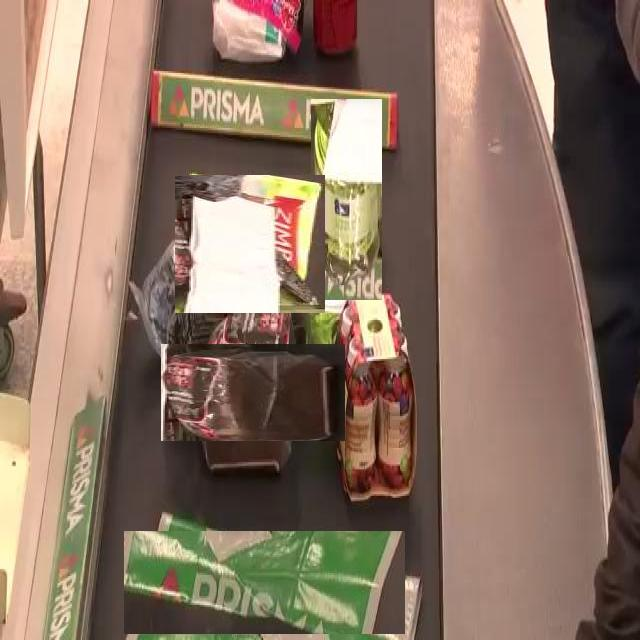beverage: (310, 98, 382, 300)
food-box: (183, 321, 324, 463), (338, 303, 419, 508)
utility-box: (124, 530, 406, 634), (178, 172, 322, 317)
